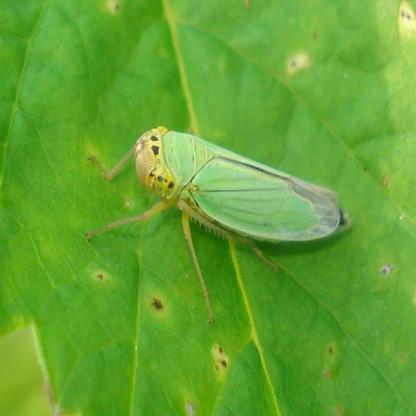Green-Leafhopper: (89, 122, 353, 304)
